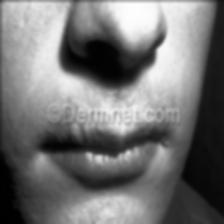Toxin: (70, 122, 96, 138), (158, 135, 172, 151)
